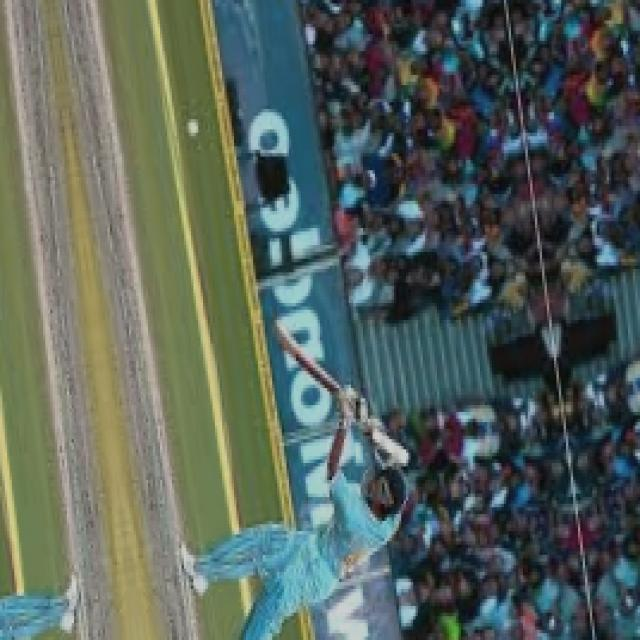bat: (256, 305, 370, 431)
toe: (260, 308, 293, 349)
